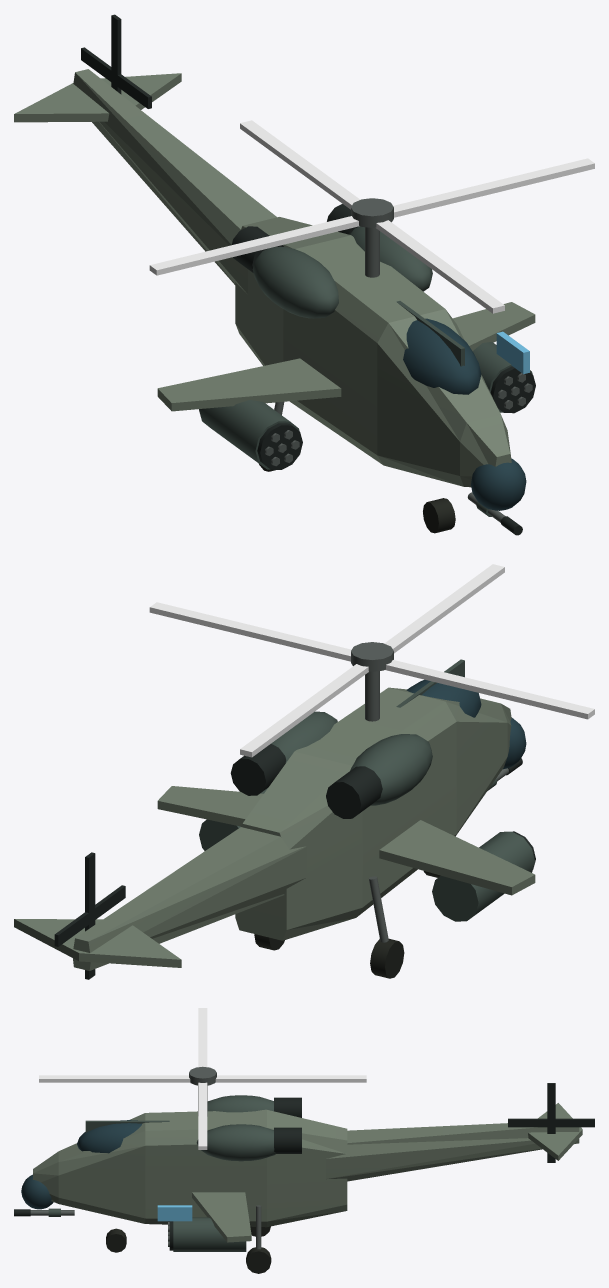
File: casHeli.glb
The picture shows the model from 3 angles, top to bottom: view 1: azimuth 30°, elevation 25°; view 2: azimuth 150°, elevation 25°; view 3: azimuth 270°, elevation 25°; orthographic projection. The views are drawn at different scales.
Parts seen in each view (by area): view 1: armor, equipment (×6), glass, marking; view 2: armor, equipment (×6), glass; view 3: armor, equipment (×6), glass, marking.
Boxes of the visible parts, x1,y1,x2,y2 form: armor: [14, 69, 535, 487]; equipment (×6): [81, 14, 594, 533]; glass: [403, 318, 526, 510]; marking: [496, 331, 529, 374]; armor: [14, 687, 535, 970]; equipment (×6): [54, 564, 594, 979]; glass: [406, 676, 526, 769]; armor: [33, 1103, 582, 1242]; equipment (×6): [14, 1008, 594, 1273]; glass: [21, 1120, 141, 1209]; marking: [157, 1205, 192, 1221].
Bounding box in the file's own units: 4.7 × 2.86 × 8.34.
